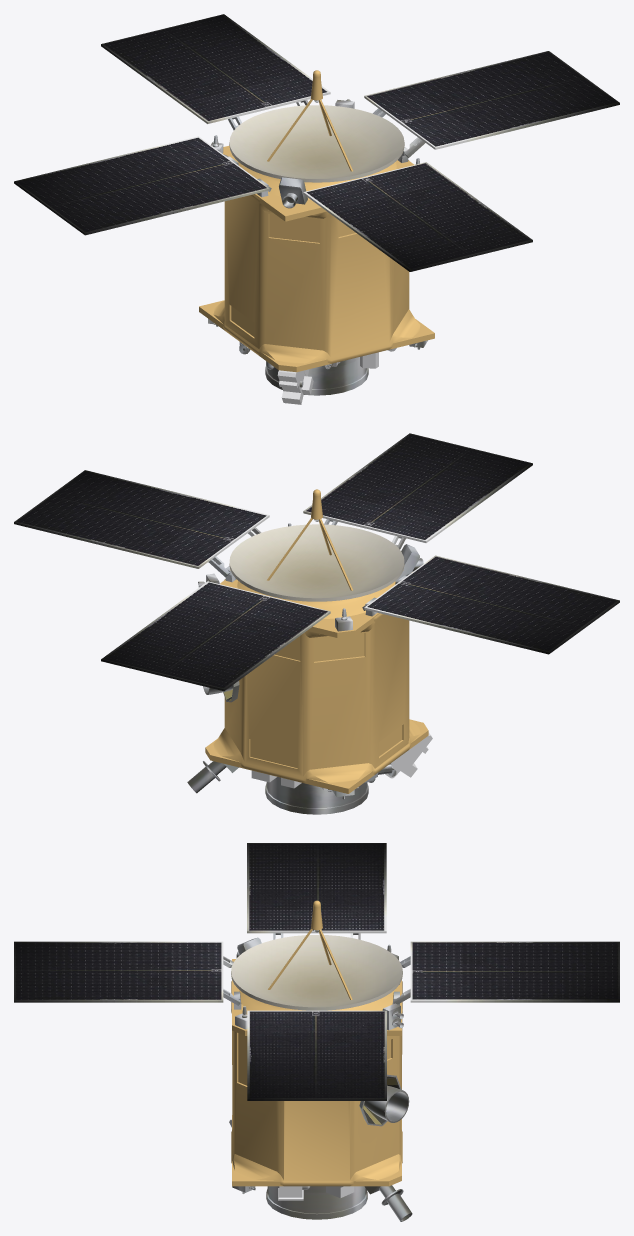
File: near-shoemaker.glb
3 views of the same model, one above another, from view 1: azimuth 30°, elevation 25°; view 2: azimuth 150°, elevation 25°; view 3: azimuth 270°, elevation 25° (orthographic).
Parts seen in each view (by area): view 1: shiny_panels, foil_gold, foil_silver; view 2: shiny_panels, foil_gold, foil_silver; view 3: shiny_panels, foil_gold, foil_silver.
Part boxes in pixels (left/top/right/bottom): shiny_panels: left=14, top=14, right=619, bottom=395; foil_gold: left=199, top=70, right=434, bottom=372; foil_silver: left=277, top=348, right=396, bottom=404; shiny_panels: left=14, top=433, right=619, bottom=814; foil_gold: left=205, top=489, right=428, bottom=793; foil_silver: left=251, top=732, right=432, bottom=790; shiny_panels: left=14, top=843, right=619, bottom=1221; foil_gold: left=231, top=900, right=402, bottom=1186; foil_silver: left=229, top=1119, right=354, bottom=1200.
Bounding box in the file's own units: 5.29 × 2.86 × 5.29.
Materials: 3 (1 with a texture image).
